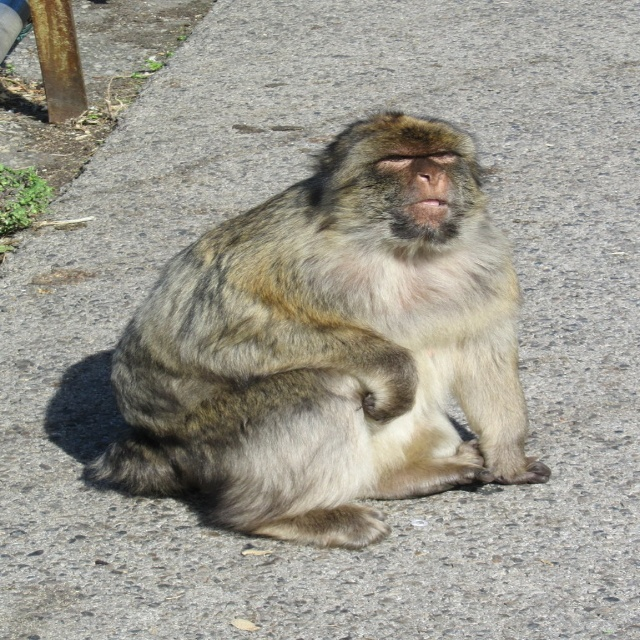Monkey: (41, 102, 511, 551)
